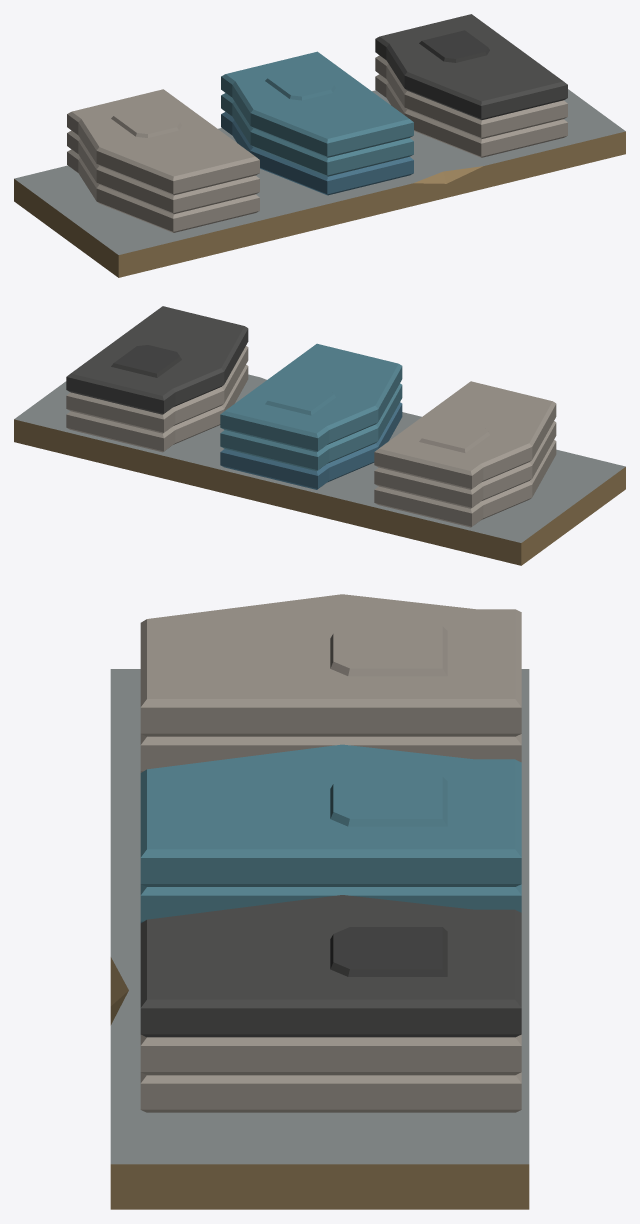
Rendered from SM_Props_Interior_Shop_Clothes_Rack_02.fbx.
3 renders of one model, top to bottom at view 1: azimuth 30°, elevation 25°; view 2: azimuth 150°, elevation 25°; view 3: azimuth 270°, elevation 25°, orthographic. The views are drawn at different scales.
Visible parts, largest first — view 1: SM_Props_Interior_Shop_Clothes_Rack_02; view 2: SM_Props_Interior_Shop_Clothes_Rack_02; view 3: SM_Props_Interior_Shop_Clothes_Rack_02.
Part boxes in pixels (x1,y1,x2,y2): SM_Props_Interior_Shop_Clothes_Rack_02: (14, 14, 625, 277); SM_Props_Interior_Shop_Clothes_Rack_02: (14, 306, 625, 565); SM_Props_Interior_Shop_Clothes_Rack_02: (110, 594, 529, 1209).
Bounding box in the file's own units: 140 × 21.68 × 50.
